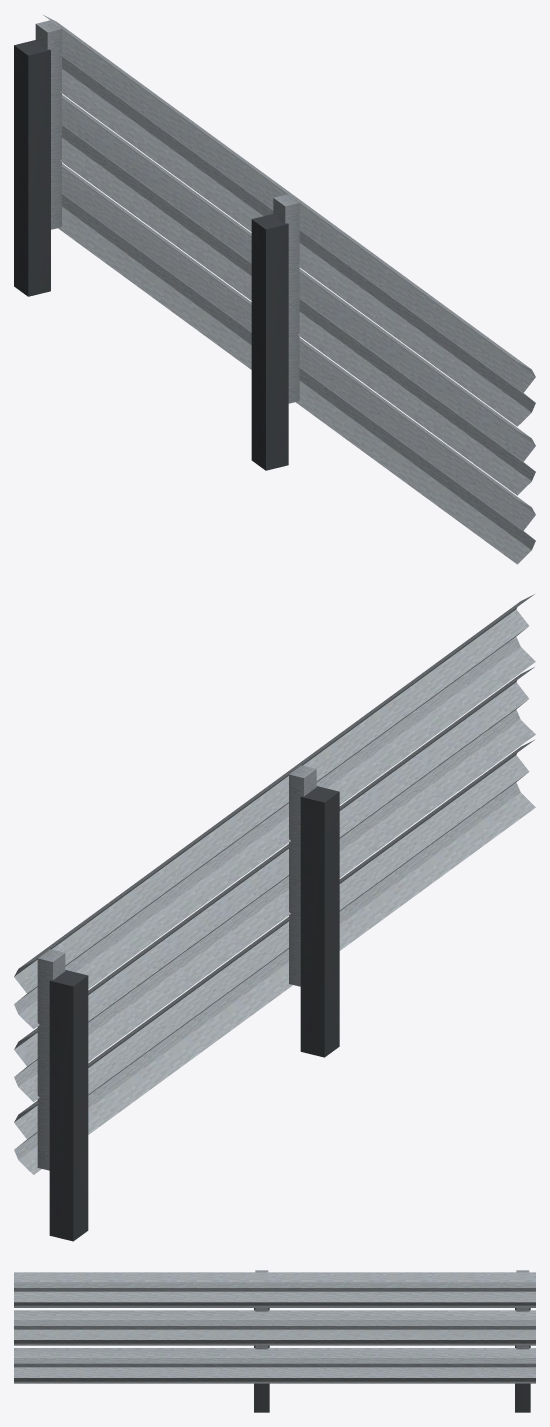
The model's file is armco-three_far.glb.
3 views of the same model, one above another, from view 1: azimuth 30°, elevation 25°; view 2: azimuth 150°, elevation 25°; view 3: azimuth 270°, elevation 25° (orthographic). The views are drawn at different scales.
Visible parts, largest first — view 1: galvanised-rail, dark-steel, galvanised; view 2: galvanised-rail, dark-steel, galvanised; view 3: galvanised-rail, dark-steel, galvanised.
Part boxes in pixels (x1=…): galvanised-rail: x1=43, y1=15, x2=535, y2=564; dark-steel: x1=14, y1=40, x2=288, y2=470; galvanised: x1=35, y1=20, x2=299, y2=403; galvanised-rail: x1=14, y1=594, x2=535, y2=1174; dark-steel: x1=49, y1=786, x2=339, y2=1241; galvanised: x1=37, y1=765, x2=316, y2=1170; galvanised-rail: x1=14, y1=1272, x2=535, y2=1383; dark-steel: x1=254, y1=1308, x2=530, y2=1412; galvanised: x1=255, y1=1270, x2=529, y2=1349.
Size of the model in its own units: 0.2501 by 1.21 by 4.
3 materials, 3 textured.
